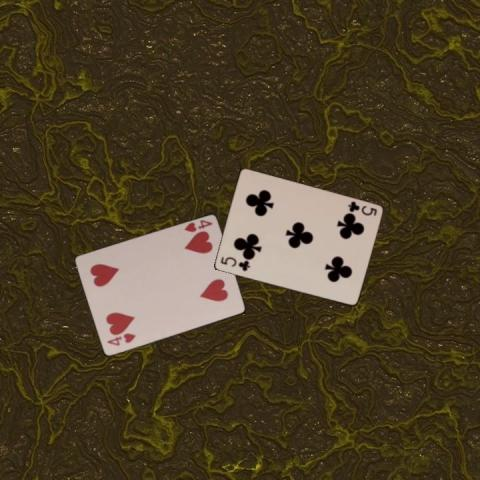4h: (104, 331, 138, 347), (181, 218, 214, 234)
5c: (217, 253, 251, 273), (345, 198, 378, 217)
